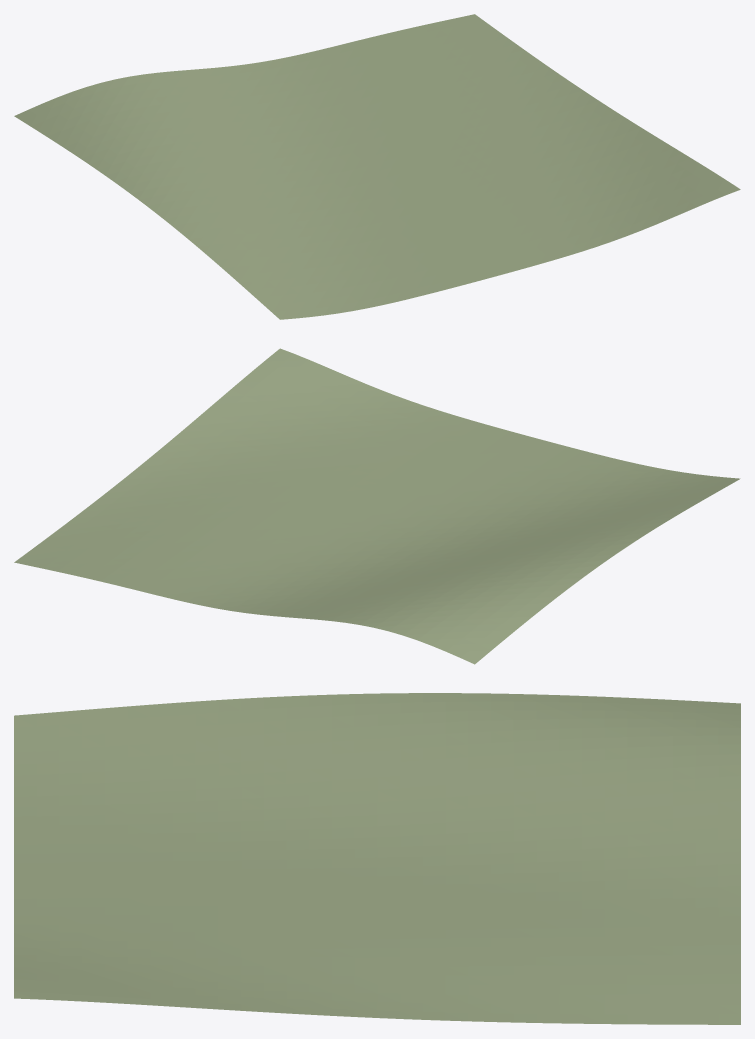
Rendered from desert-7-7.glb.
The picture shows the model from 3 angles, top to bottom: view 1: azimuth 30°, elevation 25°; view 2: azimuth 150°, elevation 25°; view 3: azimuth 270°, elevation 25°; orthographic projection. The views are drawn at different scales.
Parts seen in each view (by area): view 1: desert-7-7; view 2: desert-7-7; view 3: desert-7-7.
Boxes of the visible parts, box(x1,y1,x2,y2) form: desert-7-7: box(14, 14, 740, 319); desert-7-7: box(14, 348, 740, 664); desert-7-7: box(14, 693, 740, 1024).
Bounding box in the file's own units: 512 × 33.67 × 512.
